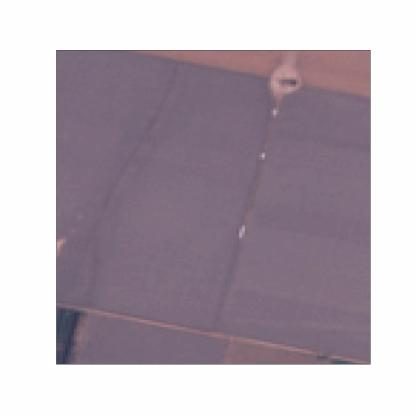silobolsa: (238, 224, 244, 240)
